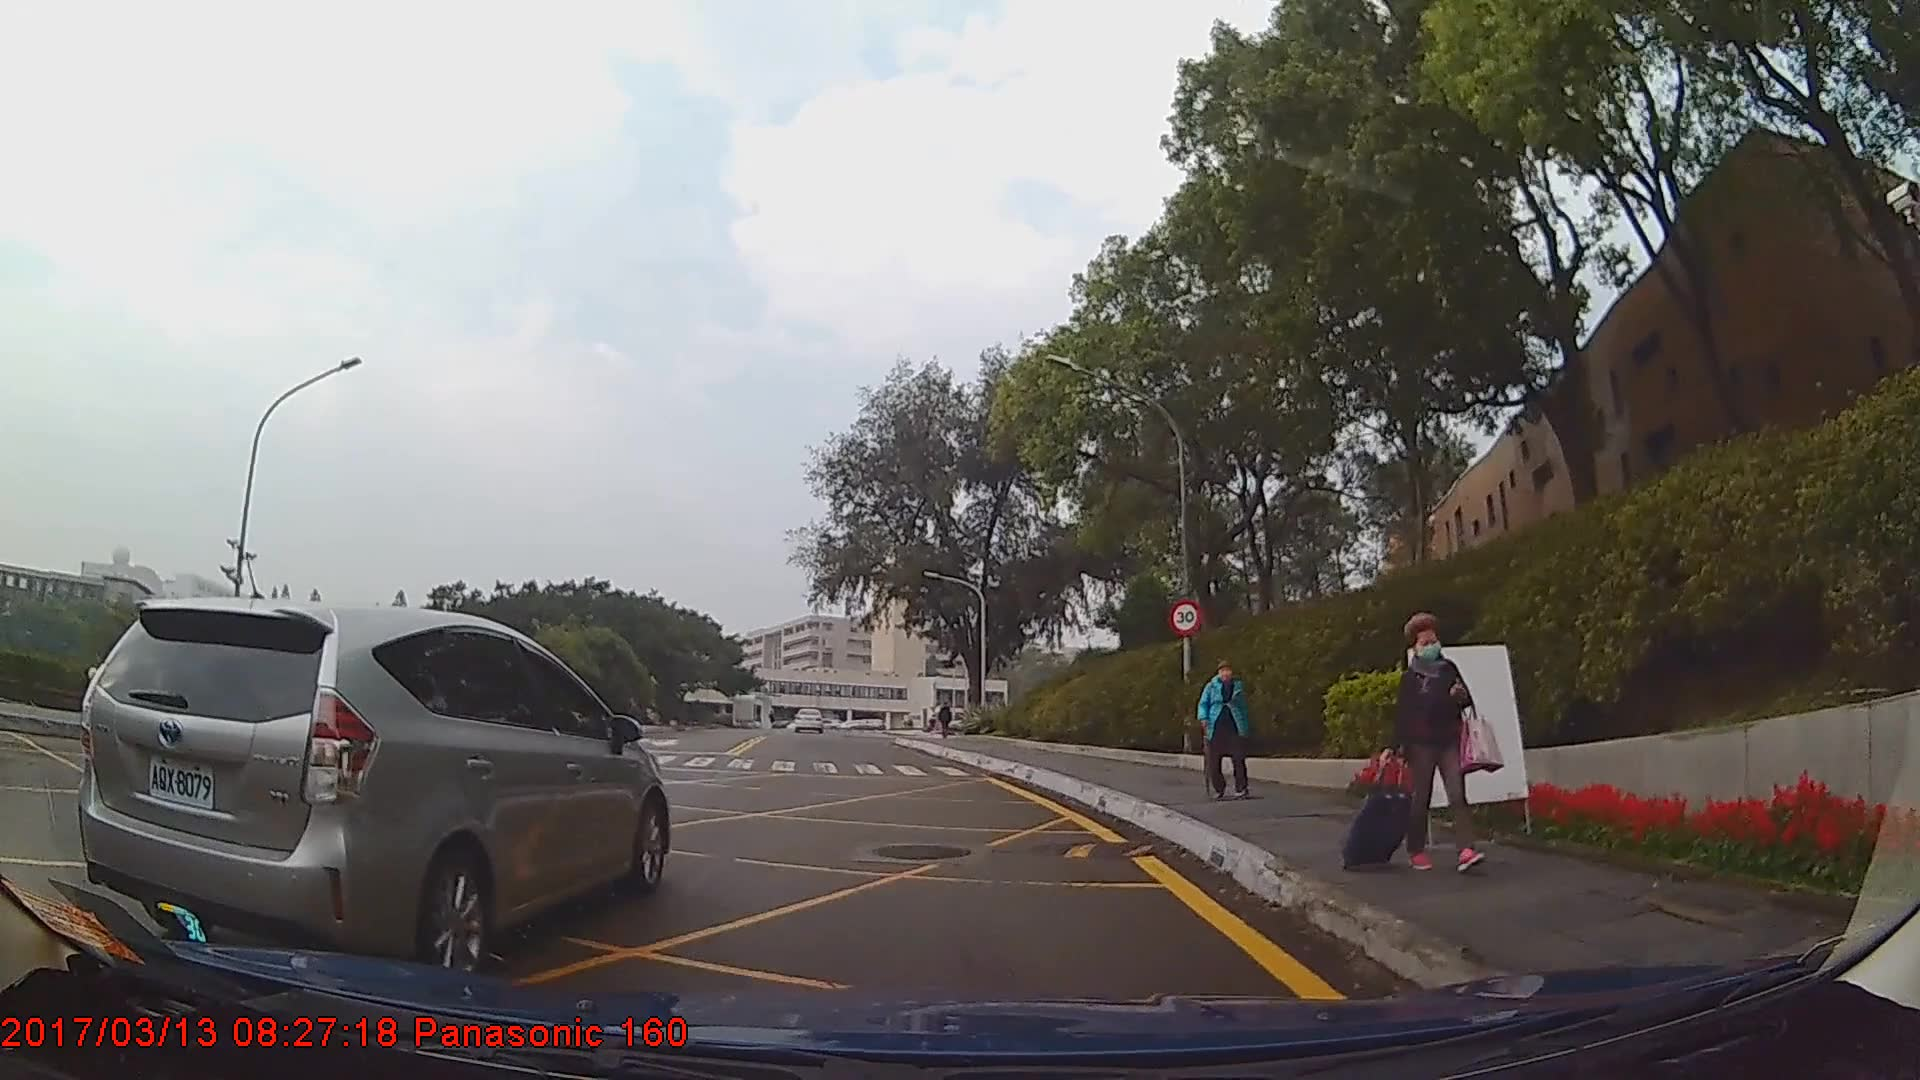pedestrian: (1339, 614, 1506, 880), (1196, 662, 1256, 802)
vehicle: (79, 594, 672, 975), (791, 706, 825, 733)
